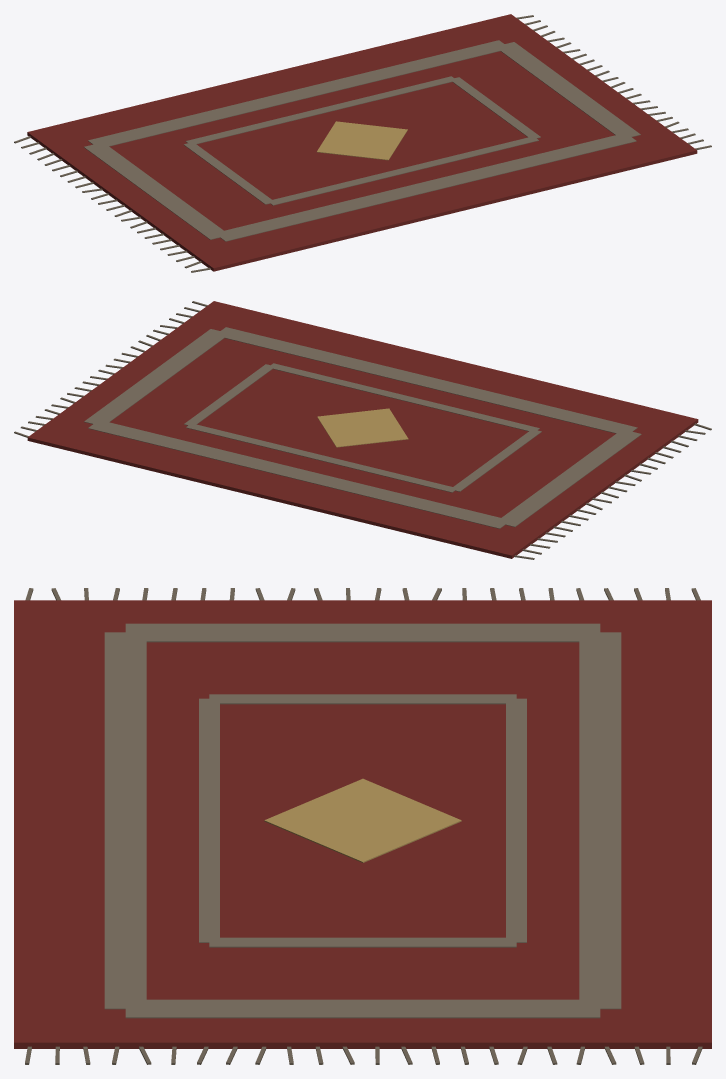
The model's file is rug.glb.
The picture shows the model from 3 angles, top to bottom: view 1: azimuth 30°, elevation 25°; view 2: azimuth 150°, elevation 25°; view 3: azimuth 270°, elevation 25°; orthographic projection. The views are drawn at different scales.
Parts seen in each view (by area): view 1: rug; view 2: rug; view 3: rug.
Part boxes in pixels (<box>): rug: <box>14,14,711,272</box>; rug: <box>14,301,711,559</box>; rug: <box>14,588,711,1064</box>.
Bounding box in the file's own units: 3.22 × 0.0235 × 2.
